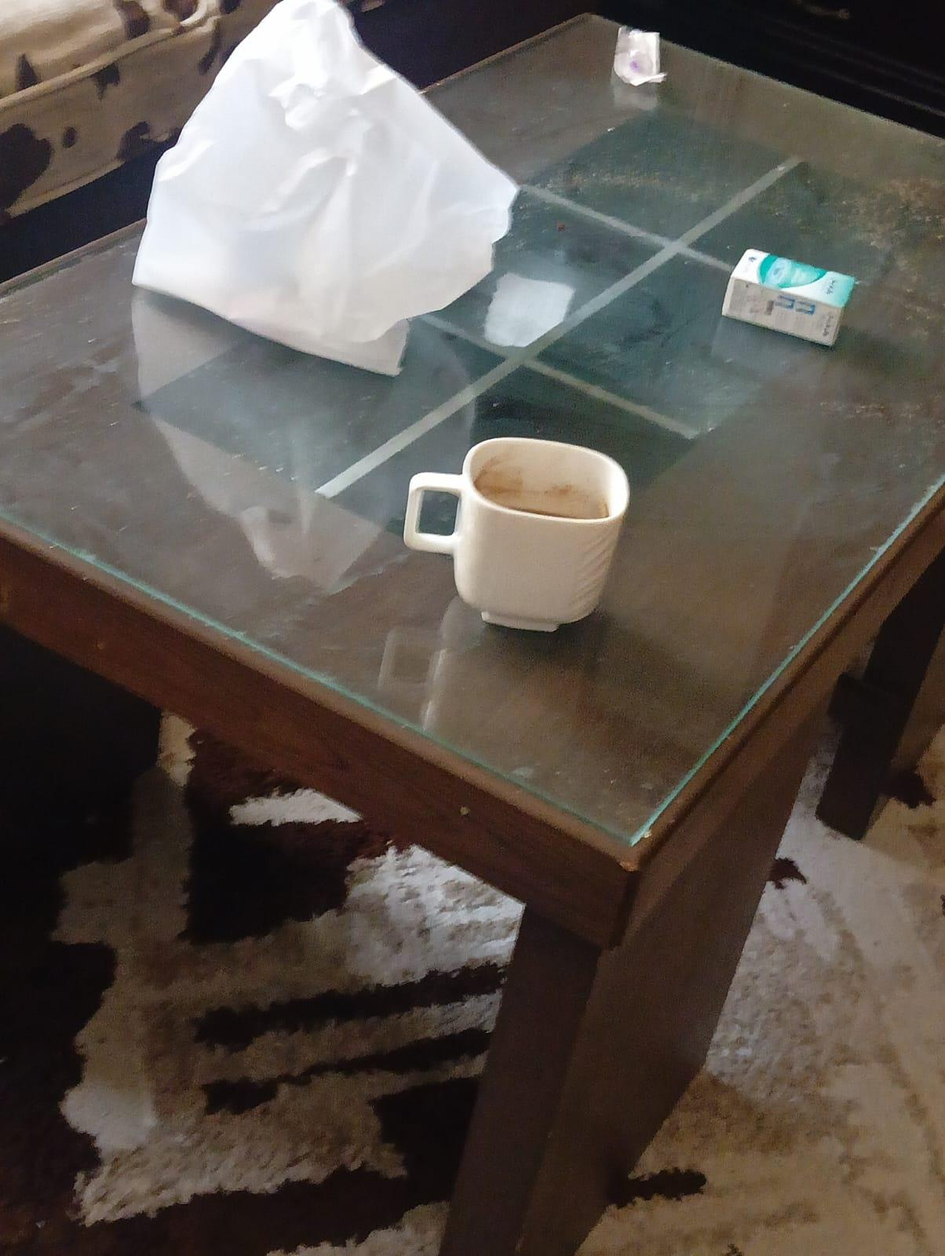cup: (403, 437, 628, 630)
